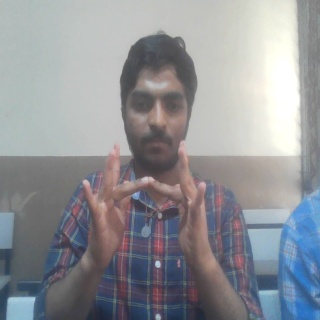Internet: (81, 141, 211, 272)
